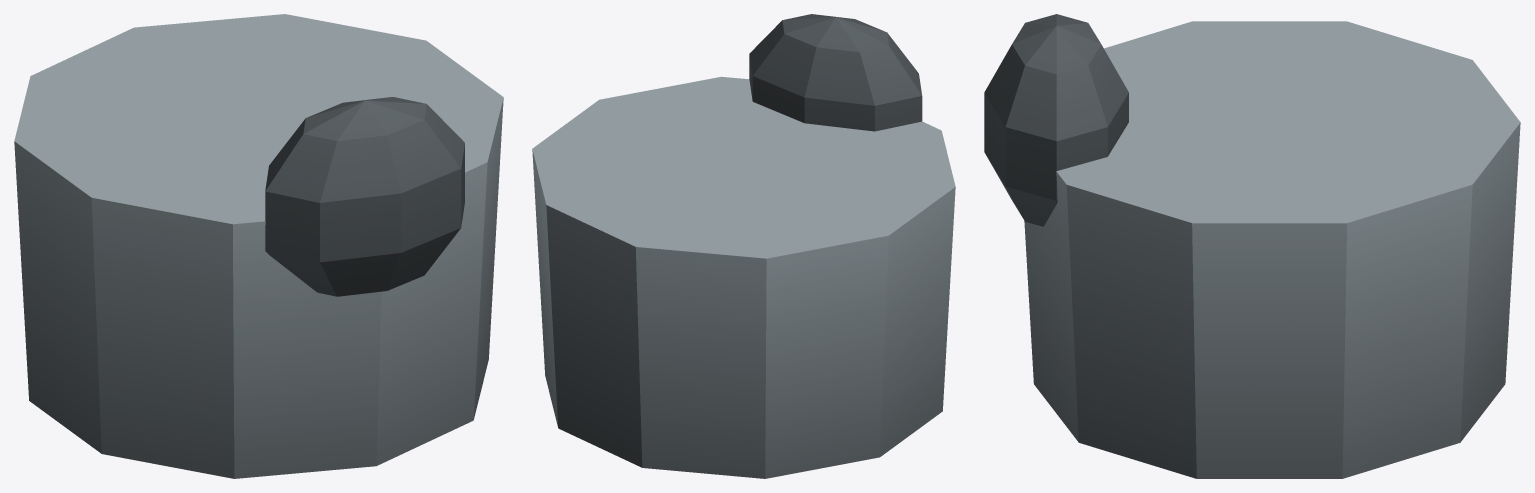
Rendered from iron_greaves_shin_r.glb.
3 views of the same model, side by side, from view 1: azimuth 30°, elevation 25°; view 2: azimuth 150°, elevation 25°; view 3: azimuth 270°, elevation 25° (orthographic). The views are drawn at different scales.
Parts seen in each view (by area): view 1: iron_greaves_shin; view 2: iron_greaves_shin; view 3: iron_greaves_shin.
Part boxes in pixels (bbox=[...]): iron_greaves_shin: bbox=[14, 14, 503, 478]; iron_greaves_shin: bbox=[532, 14, 955, 478]; iron_greaves_shin: bbox=[984, 14, 1520, 478].
Bounding box in the file's own units: 0.3138 × 0.26 × 0.3526.
Materials: 1 (1 with a texture image).
